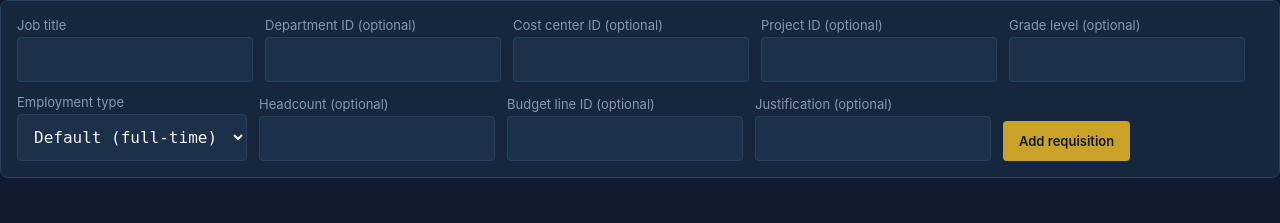
Scenario: CreateRequisitionForm › shows the action-returned error message and does not reset the fields on failure
The image size is (1280, 223).
In the field labelled "Job title": (135, 60) [17,37,253,82], type "Senior Backend Engineer"
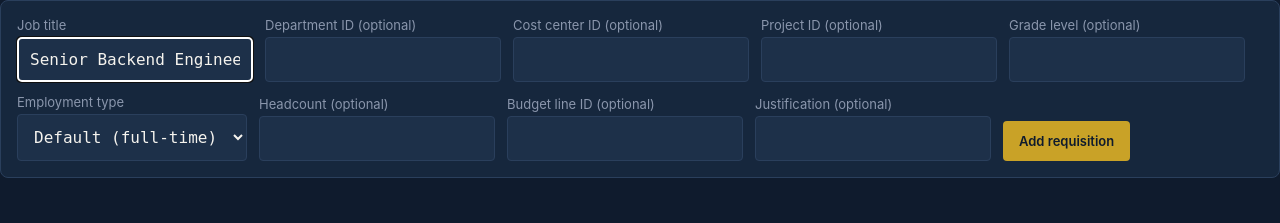
Click the button "Add requisition": click(1067, 141) [1003,121,1130,161]
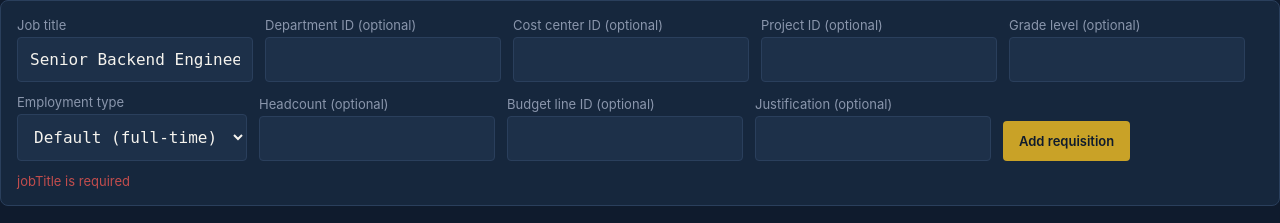
Check: the text "jobTitle is required" is shown, box [17,173,130,189]
